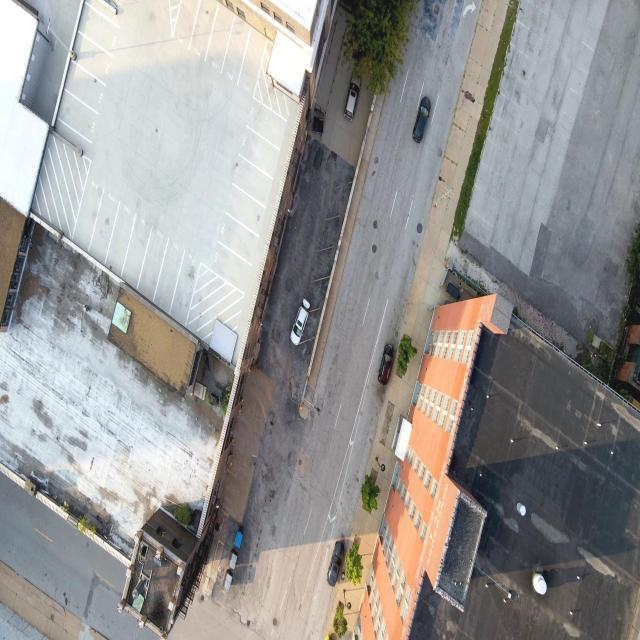Car: (336, 65, 364, 141), (408, 87, 436, 159), (285, 293, 314, 354), (373, 334, 400, 394), (214, 550, 244, 599), (327, 533, 350, 595), (231, 520, 256, 566)
